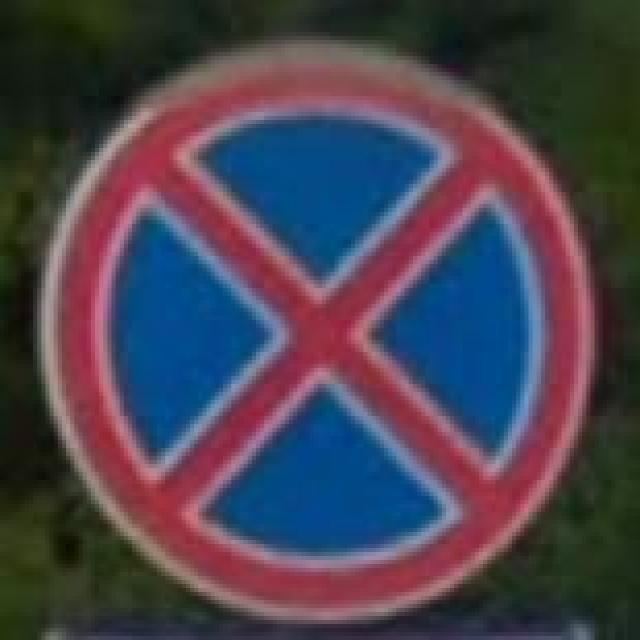Zakaz zatrzymywania sie: (33, 32, 603, 632)
